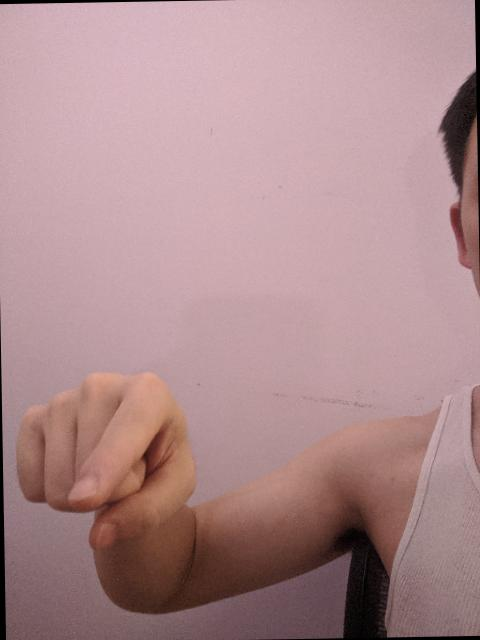Z: (8, 362, 201, 557)
